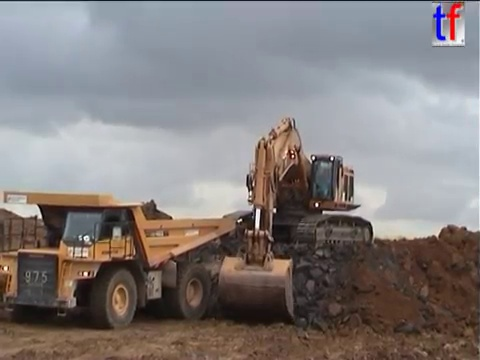excavator: (214, 114, 376, 324)
truck: (1, 189, 238, 331)
